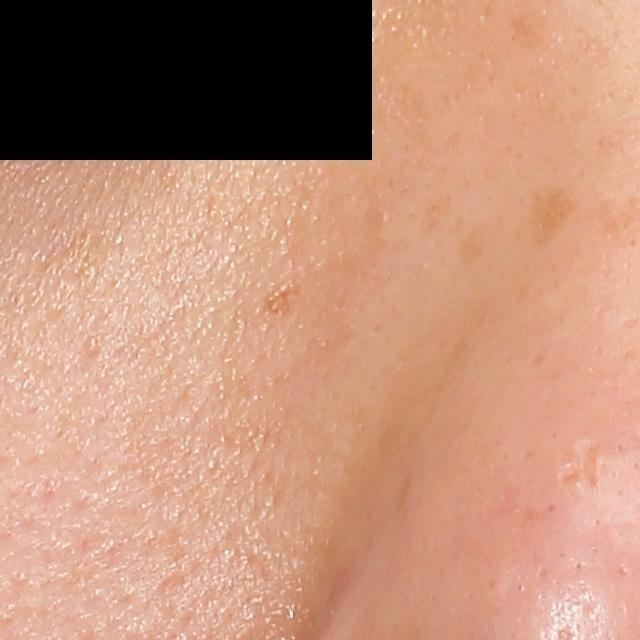atrophic_scar: (552, 437, 607, 493)
melasma: (531, 182, 584, 249), (458, 217, 502, 267), (255, 278, 305, 320)
